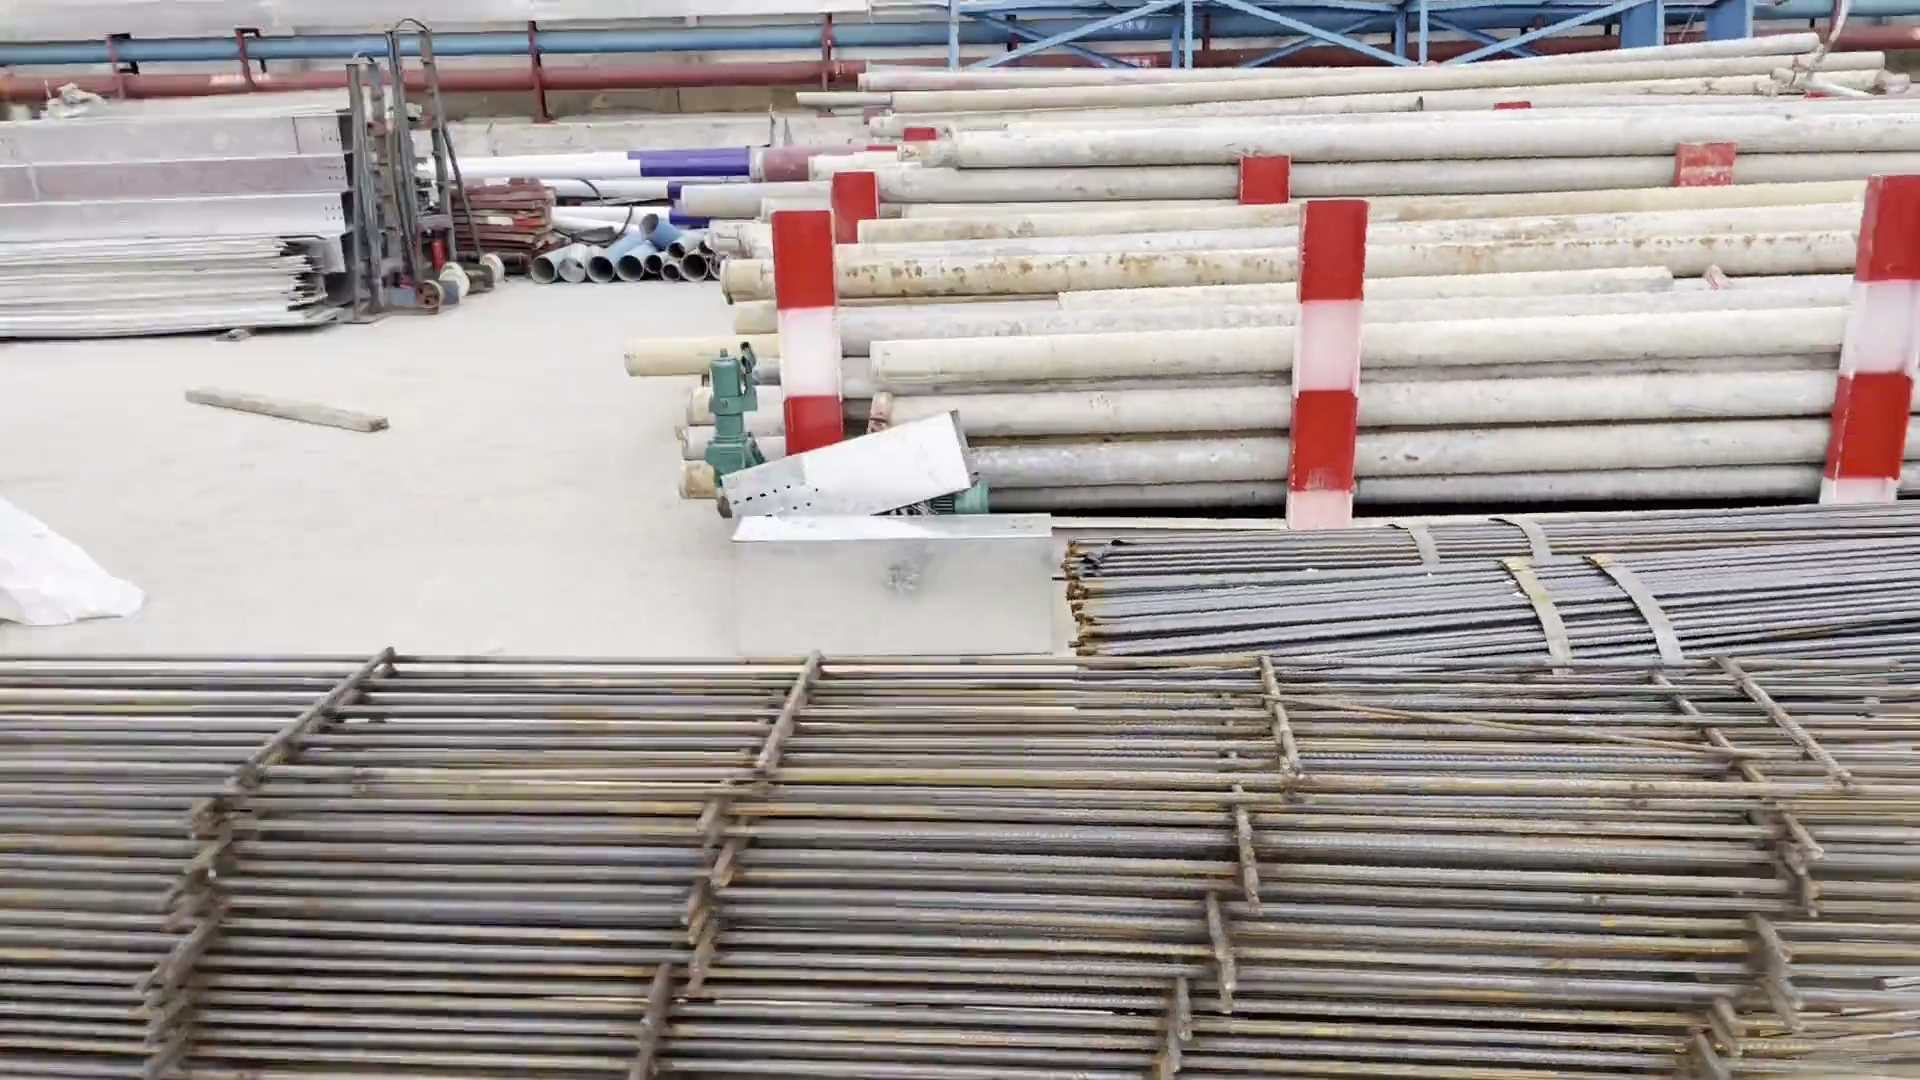rebar: (1, 628, 1920, 1076), (1050, 497, 1920, 731)
